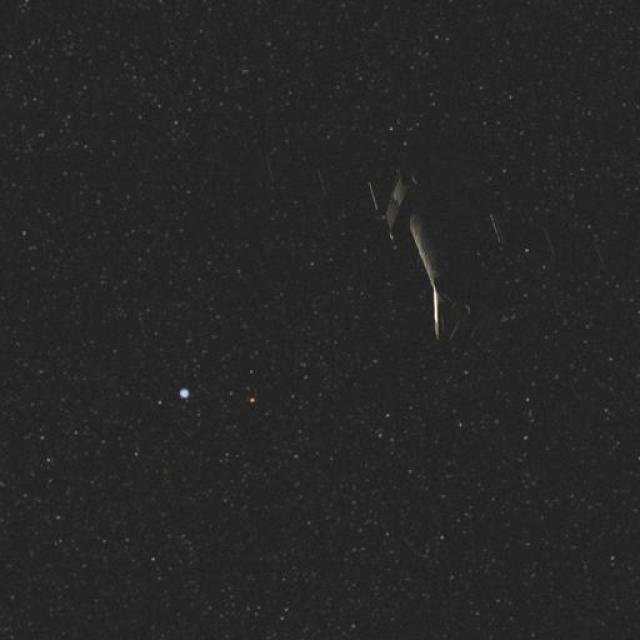xmm_newton: (275, 143, 558, 367)
